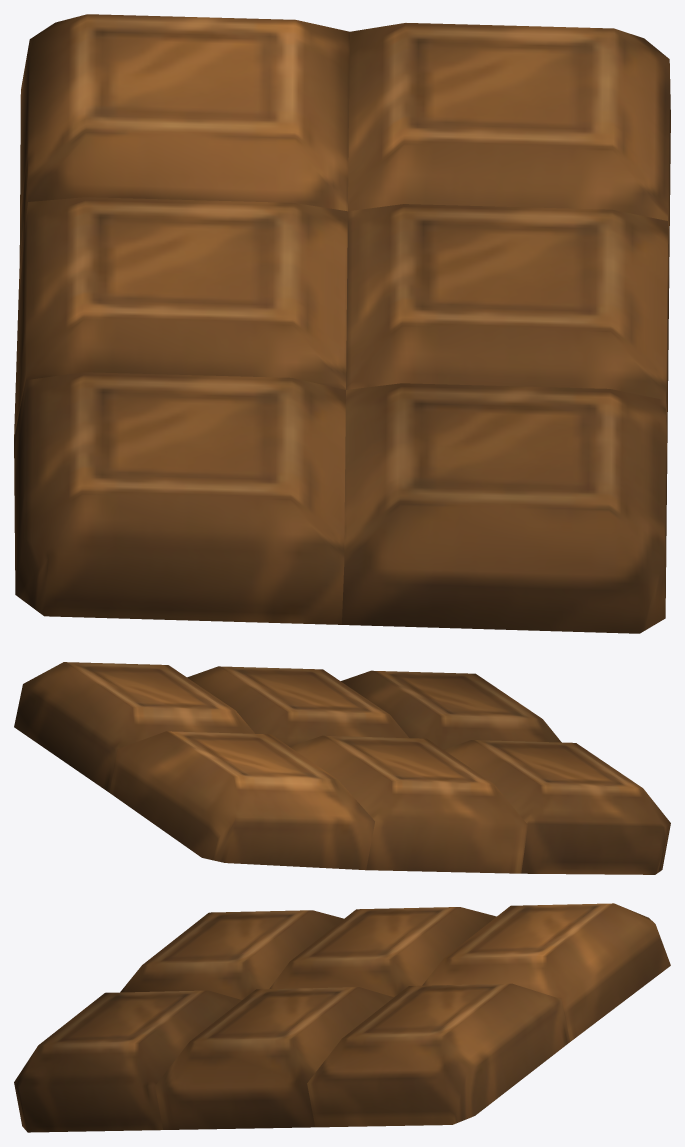
File: Chocolate.obj
The picture shows the model from 3 angles, top to bottom: view 1: azimuth 30°, elevation 25°; view 2: azimuth 150°, elevation 25°; view 3: azimuth 270°, elevation 25°; orthographic projection. The views are drawn at different scales.
Parts seen in each view (by area): view 1: choco; view 2: choco; view 3: choco.
Boxes of the visible parts, left/top/right/bottom form: choco: left=14, top=14, right=670, bottom=633; choco: left=14, top=662, right=670, bottom=874; choco: left=14, top=903, right=670, bottom=1132.
Bounding box in the file's own units: 2.39 × 0.8427 × 2.58.
Materials: 1 (1 with a texture image).
